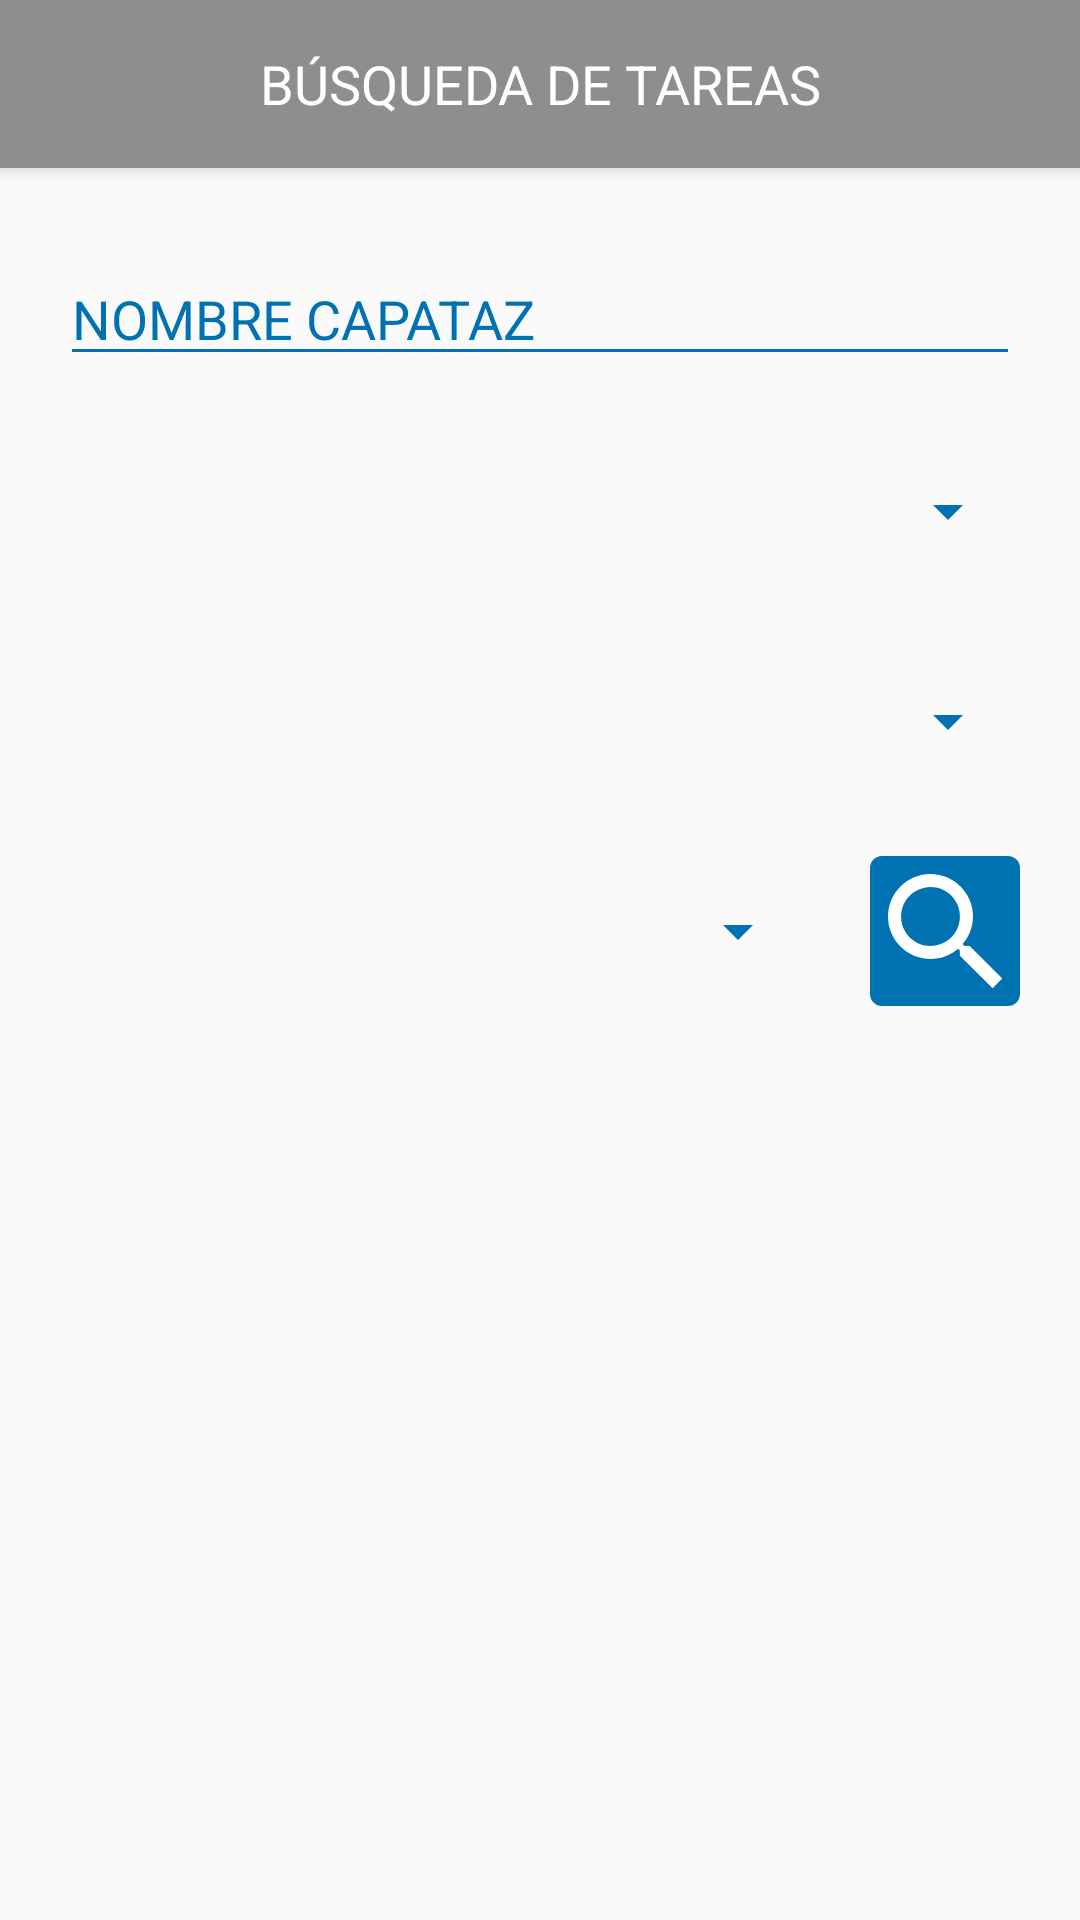

Icon bounding boxes for this 1080px×1920px phone screenshot, format box(x1, y1, x2, y2):
busqueda: box(870, 856, 1020, 1006)
